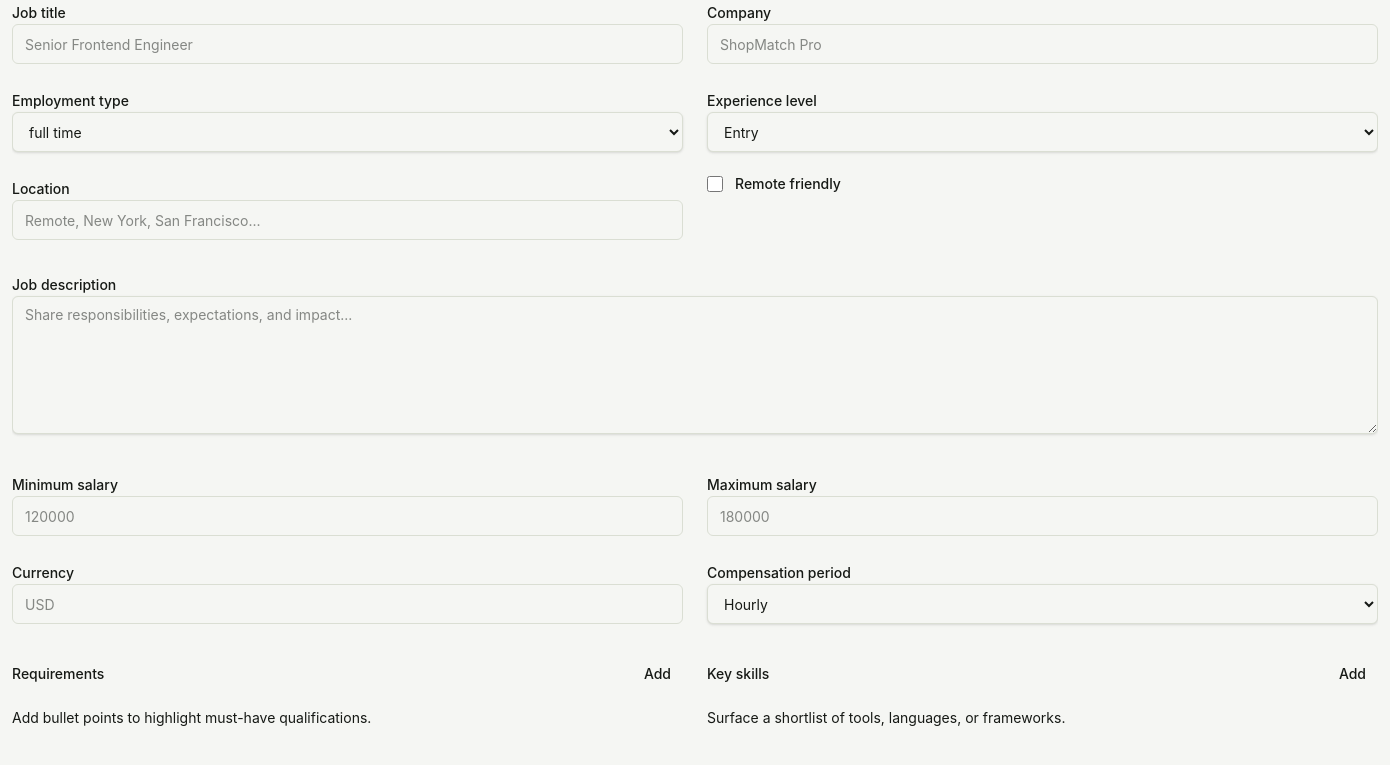
JobForm - Interaction Tests › Skills Management › adds new skill field when Add button clicked
Expected: the field with placeholder "TypeScript" is not shown
Click the button "Add" in the row of "Key skills": [1352, 674] box top-left (1327, 656), bottom-right (1378, 692)
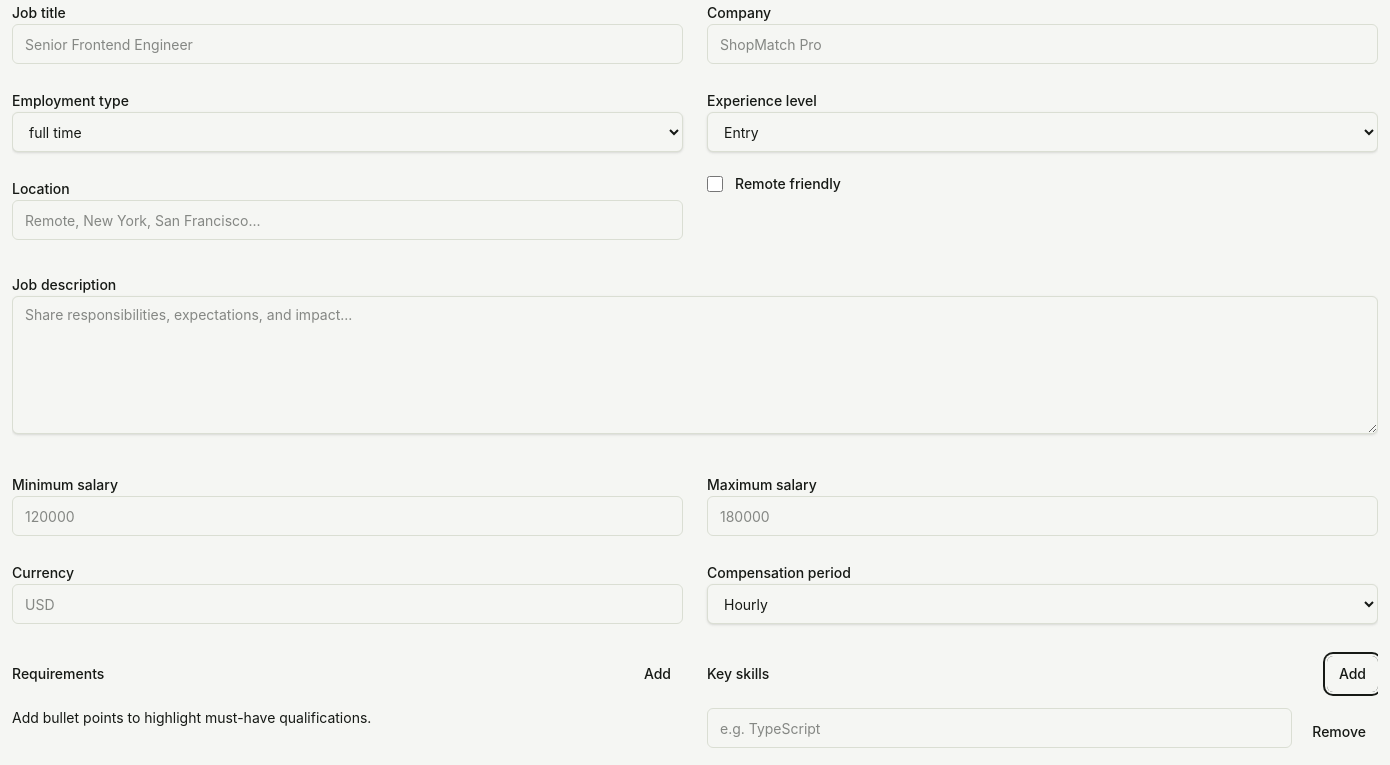
Expected: the number of fields with placeholder "e.g. TypeScript" is 1, top-left (707, 708), bottom-right (1292, 748)
